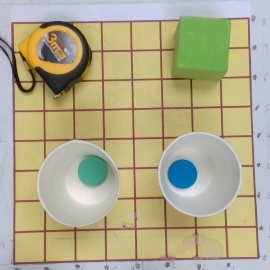cup_blue: (159, 132, 243, 219)
cup_green: (36, 140, 120, 227)
